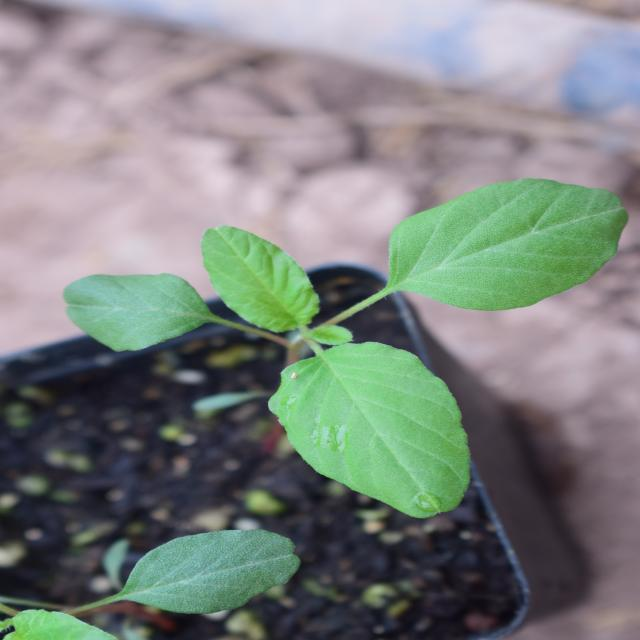pigweed: (128, 207, 464, 622)
